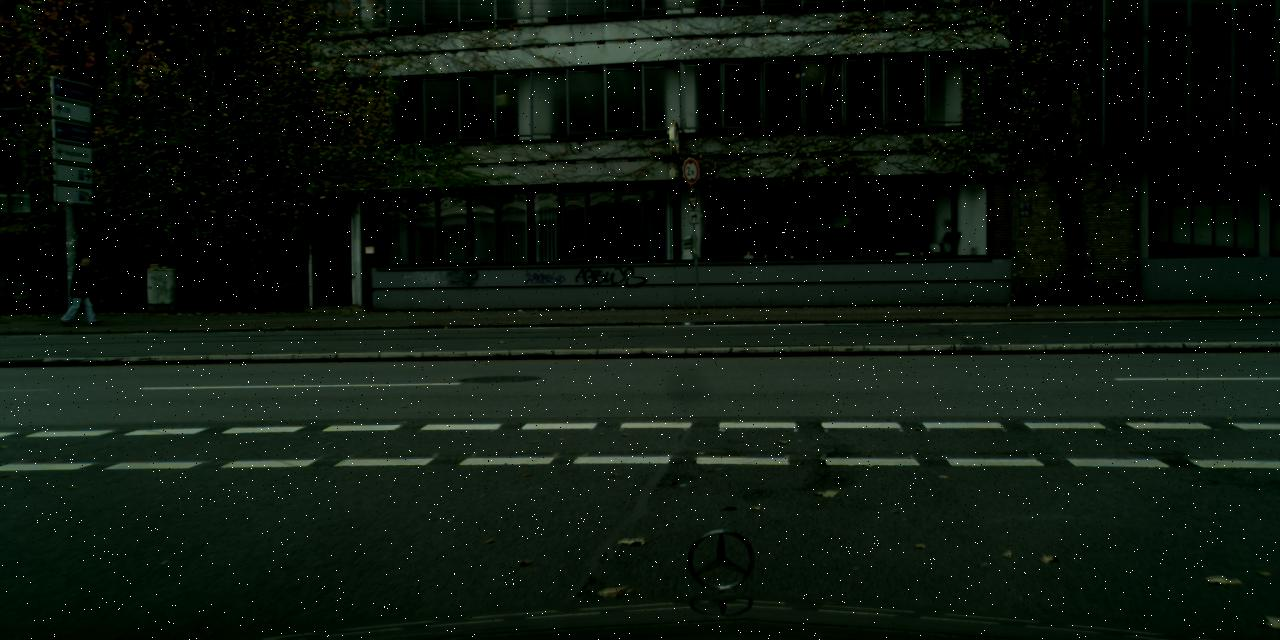ped: (68, 257, 96, 324)
